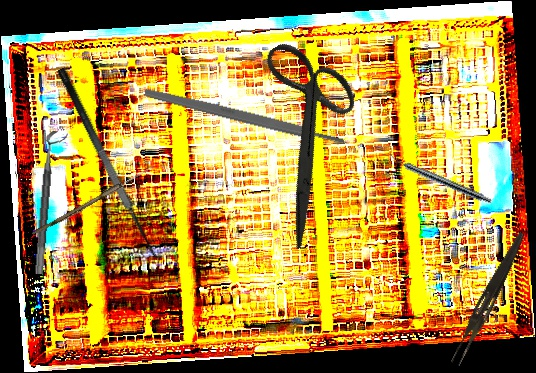Dressing Forceps: (449, 228, 528, 369)
Fixation Ring: (33, 130, 69, 276)
Handpiece: (386, 152, 494, 206)
Iris Scissors: (204, 24, 408, 250)
Scalpel Handle: (143, 86, 346, 148)
Spatula Surgical: (54, 59, 173, 265)
Surgical Spoon: (31, 162, 156, 239)
